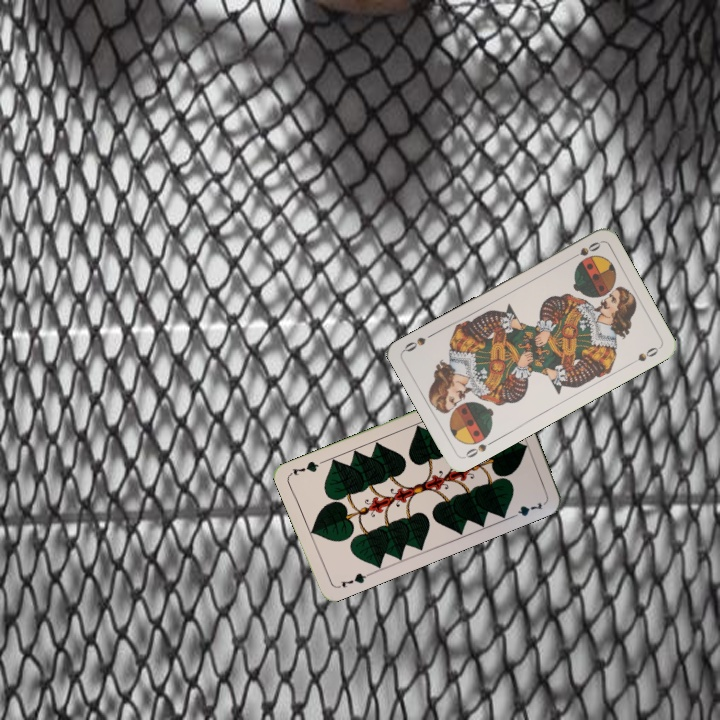G7: (333, 569, 372, 591)
SO: (565, 238, 603, 263), (460, 436, 497, 461)
